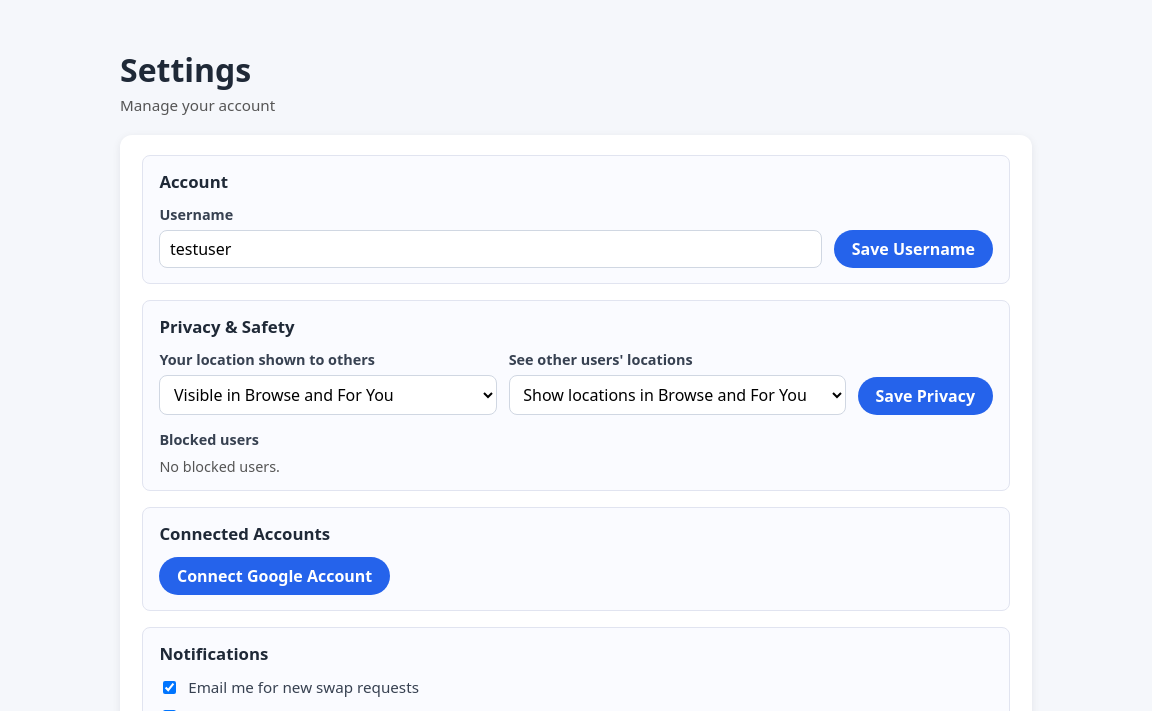
Test: Settings Page › saves notification preference changes
Expected: the heading "Settings" is shown, left=120, top=48, right=251, bottom=91
Click the checkbox labelled "Email me for new swap requests" at (170, 687), box left=163, top=681, right=176, bottom=694
(page scrolled)
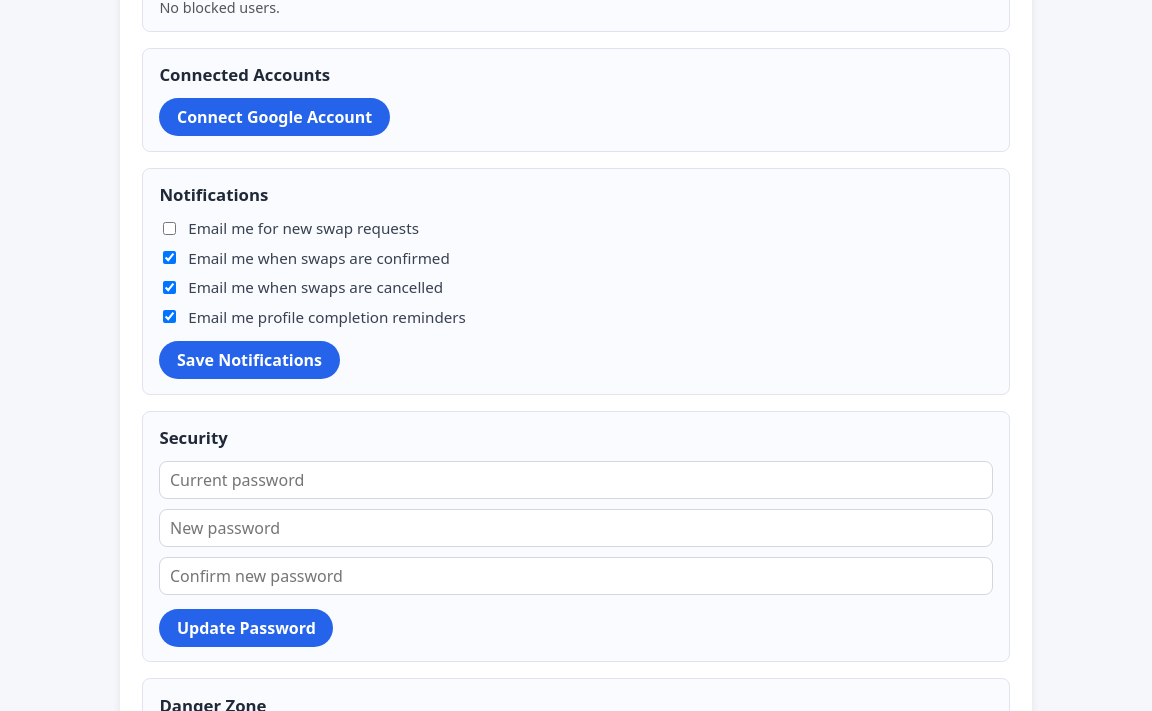
Click the button "Save Notifications" at (250, 360), box left=159, top=341, right=340, bottom=379
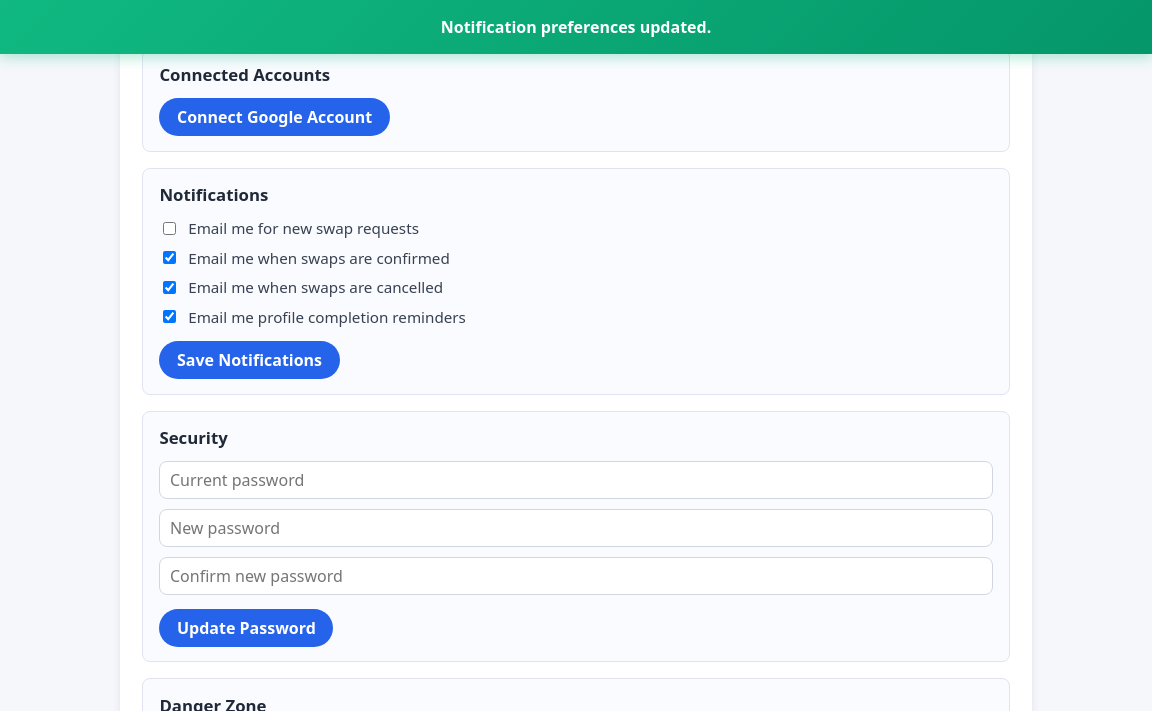
Expected: the text "Notification preferences updated." is shown, left=0, top=0, right=1151, bottom=54
